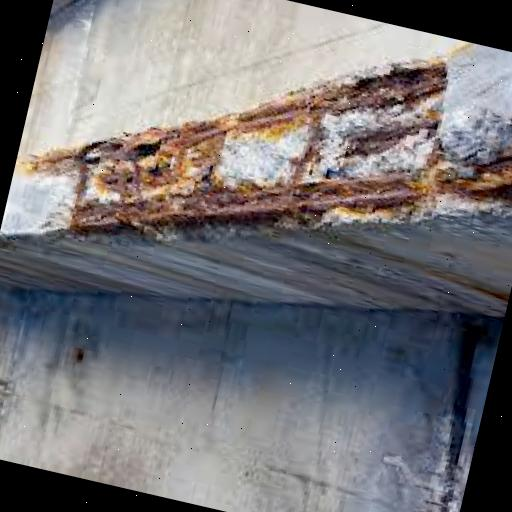spalling: (23, 59, 512, 239)
